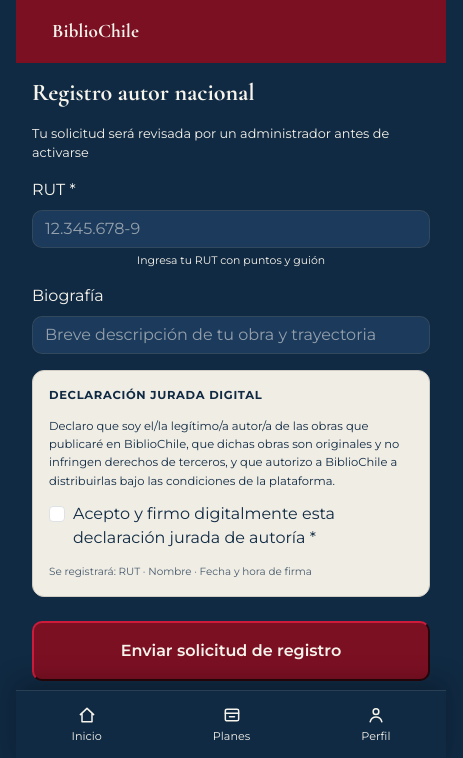
RegistroAutor › muestra el error del backend si la solicitud falla
In the field labelled "RUT *": (231, 229) x1=32 y1=210 x2=430 y2=248, type "12.345.678-5"
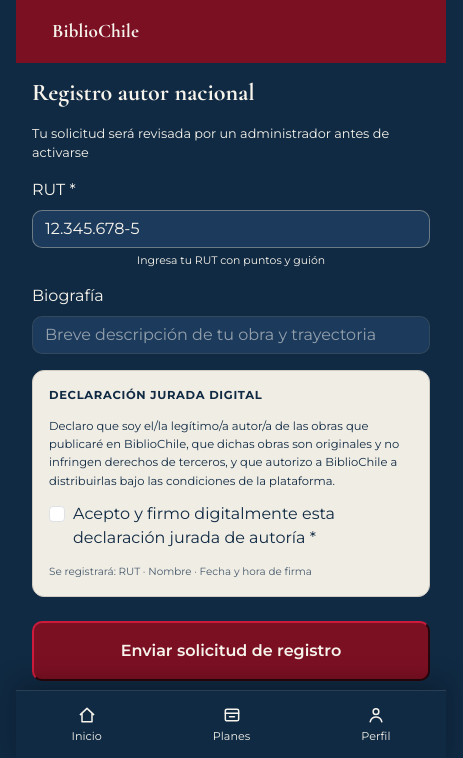
Click the checkbox: (57, 514) x1=49 y1=506 x2=65 y2=522
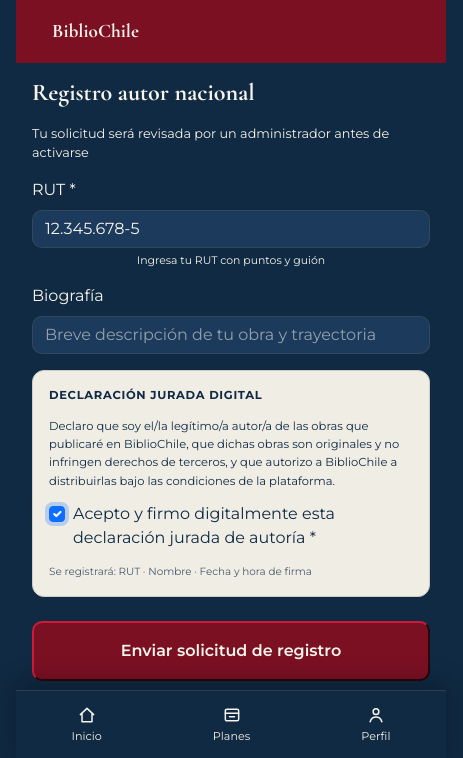
Click the button "Enviar solicitud de registro": (231, 651) x1=32 y1=621 x2=430 y2=681
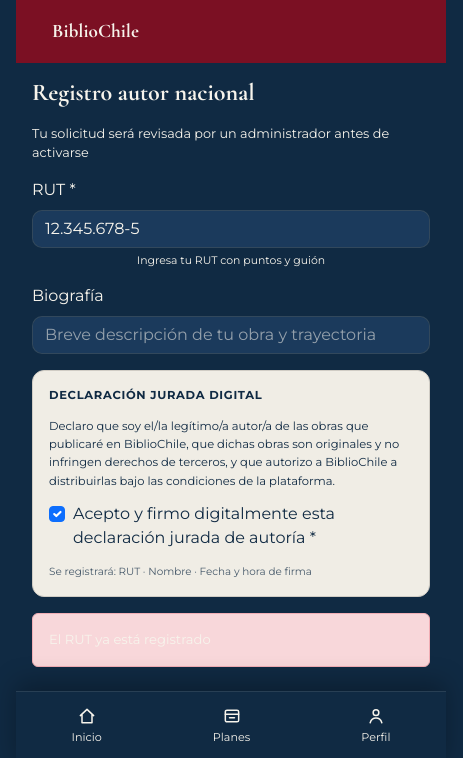
Check: the text "El RUT ya está registrado" is shown, box x1=32 y1=613 x2=430 y2=666
